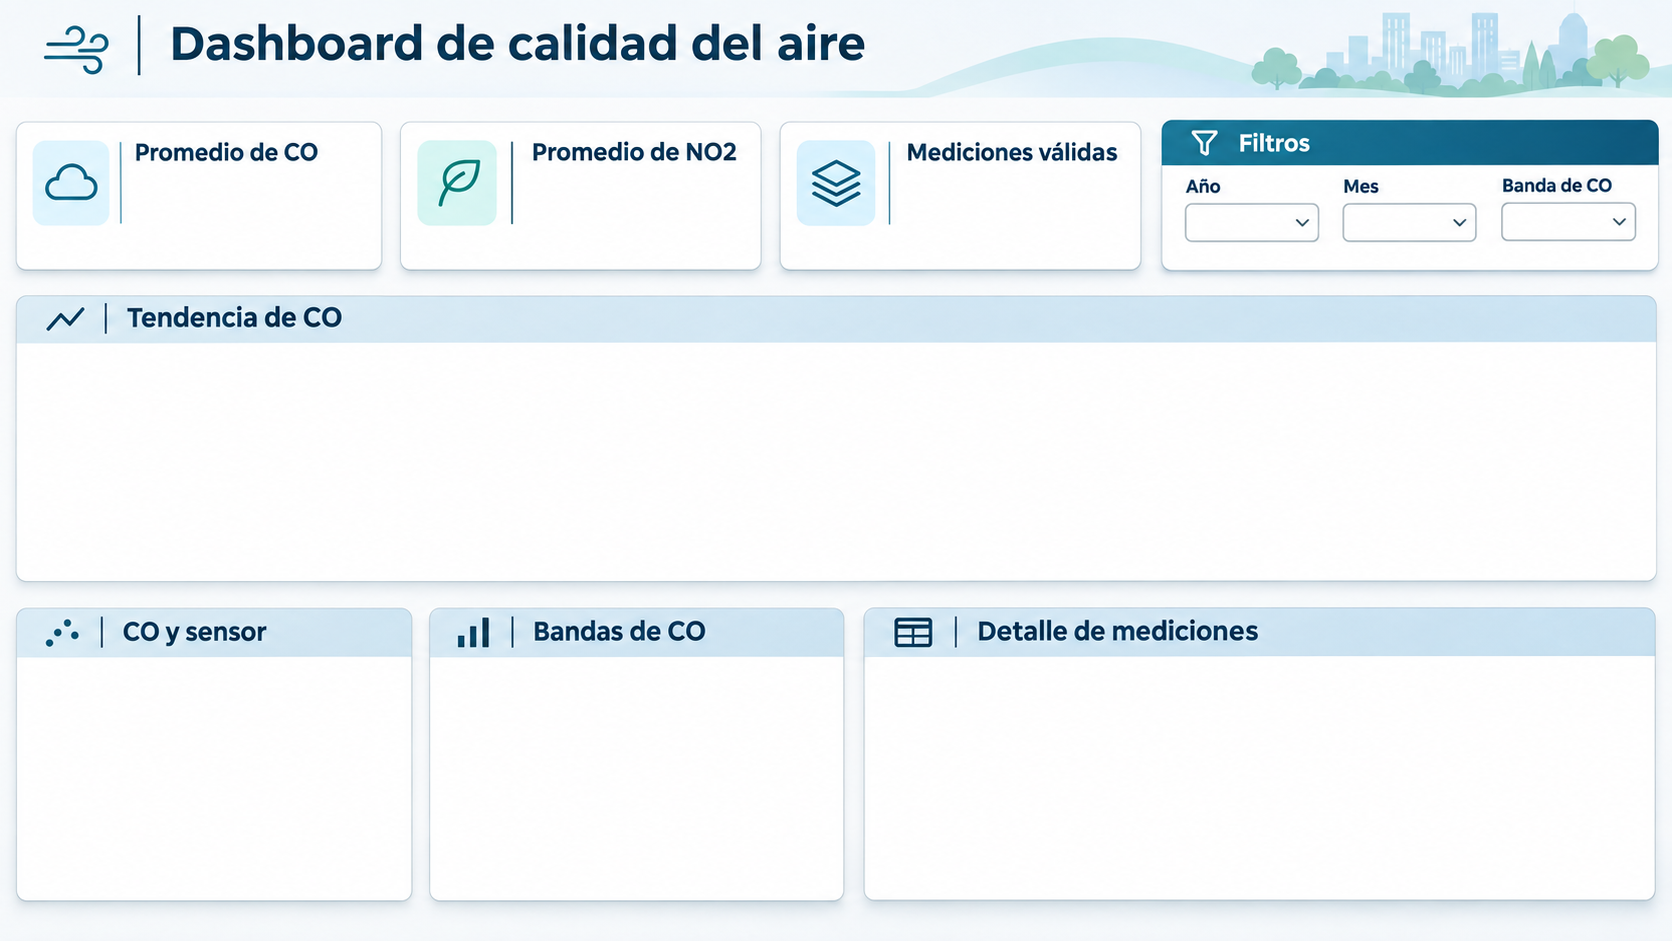

Layout of this report page (visuals, bound fields, positions):
{"tool":"powerbi","page":{"name":"Página 1","canvas":[1920,1080],"ordinal":0},"visuals":[{"type":"cardVisual","fields":{"Data":["Avg(hecho_calidad_aire.co_gt)"]},"box":[425.1,120.9,300,300],"z":0},{"type":"cardVisual","fields":{"Data":["Avg(hecho_calidad_aire.no2_gt)"]},"box":[74.7,120.9,300,300],"z":1000},{"type":"clusteredColumnChart","fields":{"Category":["hecho_calidad_aire.banda_co"],"Y":["CountNonNull(hecho_calidad_aire.banda_co)"]},"box":[758.7,120.9,300,300],"z":2000},{"type":"scatterChart","fields":{"Category":["hecho_calidad_aire.medicion_id"],"X":["Sum(hecho_calidad_aire.co_gt)"],"Y":["Sum(hecho_calidad_aire.pt08_s1_co)"]},"box":[1088,120,300,300],"z":3000},{"type":"slicer","fields":{"Values":["dim_tiempo.anio"]},"box":[74,432,300,300],"z":4000},{"type":"slicer","fields":{"Values":["dim_tiempo.mes"]},"box":[425,431,300,300],"z":5000},{"type":"slicer","fields":{"Values":["hecho_calidad_aire.banda_co"]},"box":[788.2,461.2,300,300],"z":6000},{"type":"textbox","box":[1398,120,300,300],"z":7000}]}

Visuals, with their boxes in screenshot pixels (x1, y1, x2, y2), scaled from the page's 1920x1080 canvas onto the 1672x941 screenshot:
cardVisual - Avg(hecho_calidad_aire.co_gt): left=370, top=105, right=631, bottom=367
cardVisual - Avg(hecho_calidad_aire.no2_gt): left=65, top=105, right=326, bottom=367
clusteredColumnChart - hecho_calidad_aire.banda_co x CountNonNull(hecho_calidad_aire.banda_co): left=661, top=105, right=922, bottom=367
scatterChart - hecho_calidad_aire.medicion_id x Sum(hecho_calidad_aire.co_gt): left=947, top=105, right=1209, bottom=366
slicer - dim_tiempo.anio: left=64, top=376, right=326, bottom=638
slicer - dim_tiempo.mes: left=370, top=376, right=631, bottom=637
slicer - hecho_calidad_aire.banda_co: left=686, top=402, right=948, bottom=663
textbox: left=1217, top=105, right=1479, bottom=366
